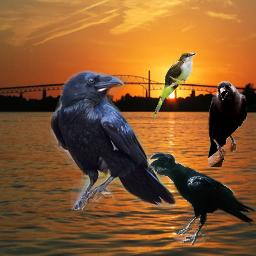Crow: (50, 70, 179, 210), (147, 152, 255, 245), (207, 81, 247, 167)
Cuckoo: (152, 52, 197, 118)
